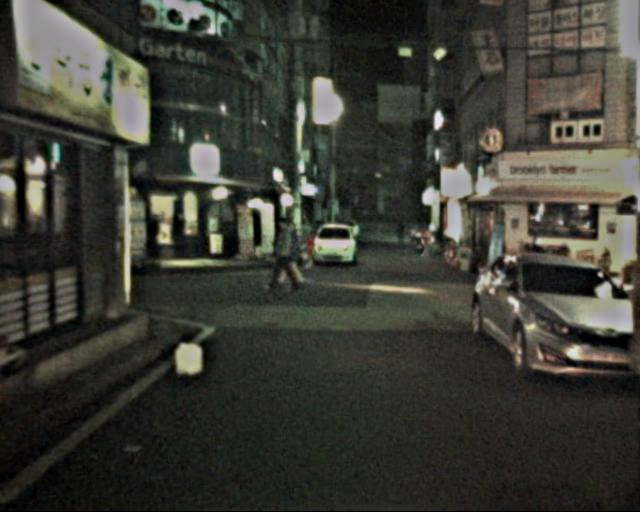person: (269, 218, 303, 297)
